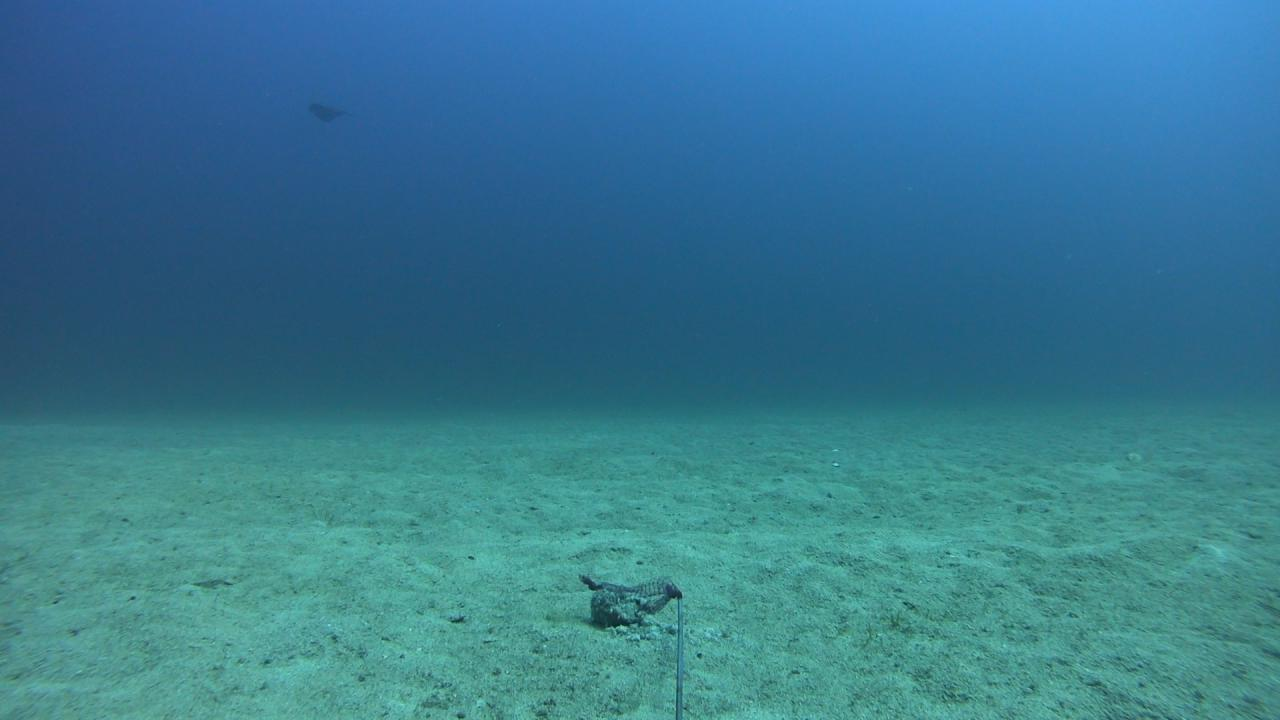dasyatis: (306, 100, 374, 123)
